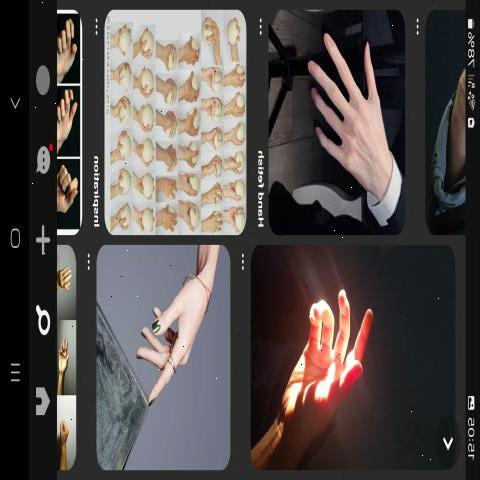Hands: (262, 264, 414, 446), (292, 24, 402, 206), (125, 253, 232, 416)
